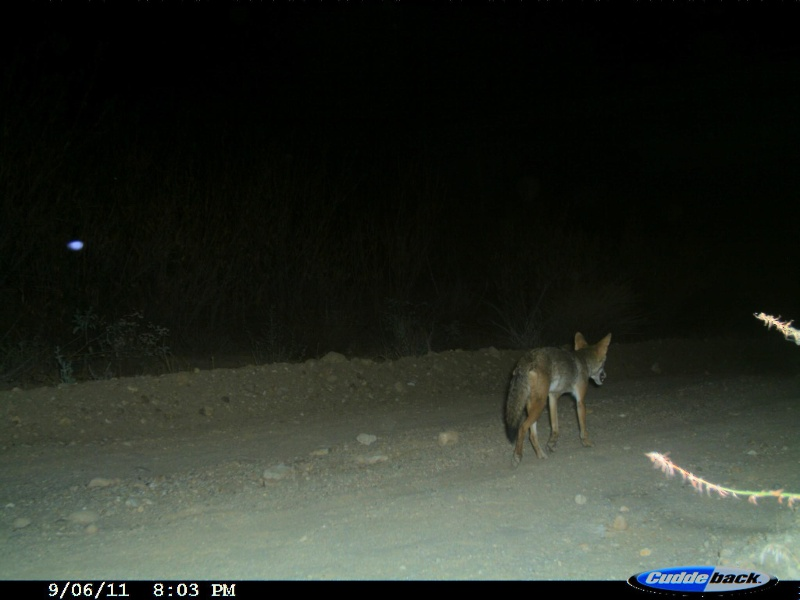coyote: (500, 327, 614, 466)
